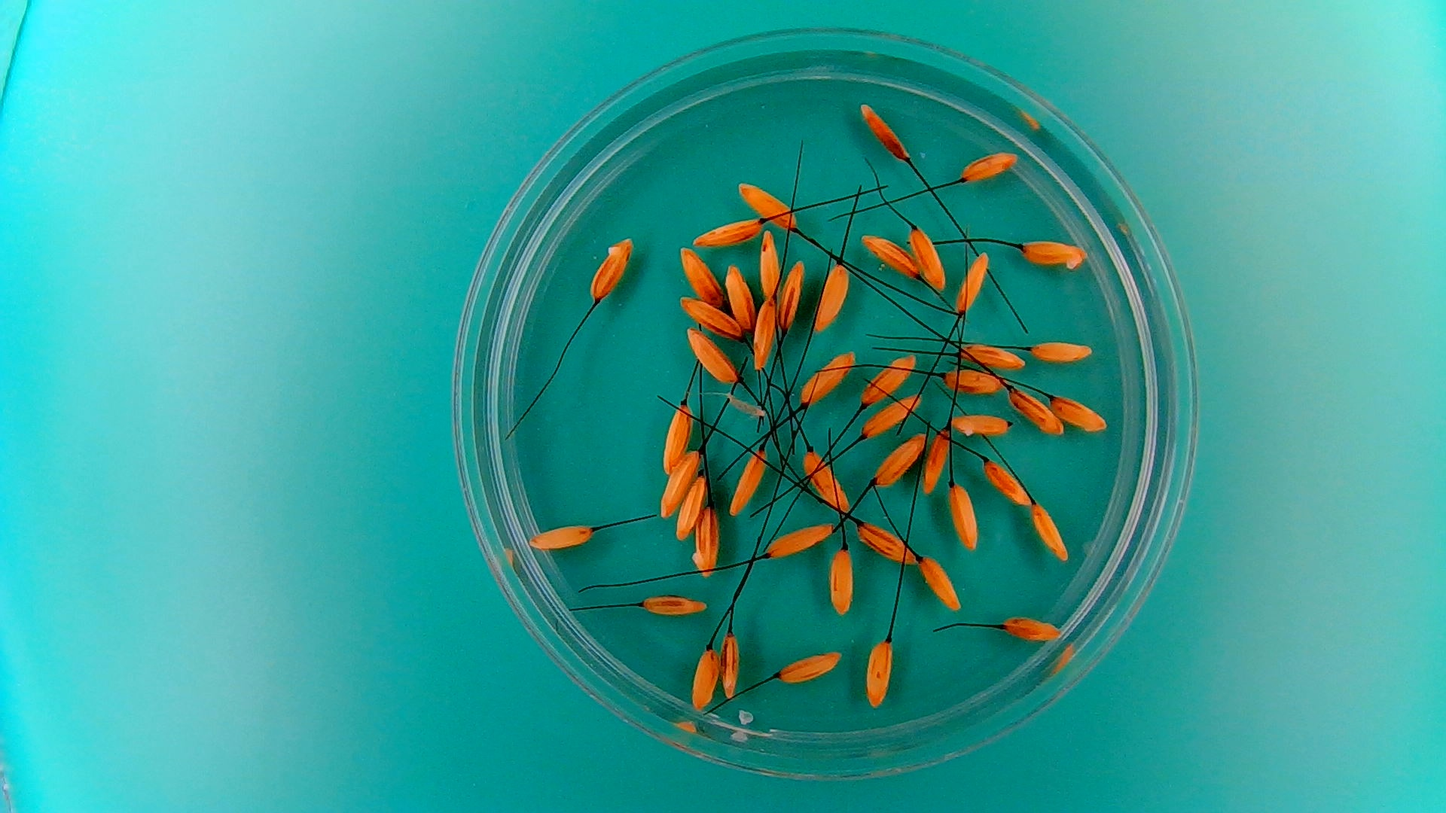no: (856, 99, 911, 162), (799, 446, 848, 516), (586, 234, 635, 304), (684, 324, 740, 385), (676, 293, 746, 340), (657, 448, 703, 519), (871, 431, 927, 489), (850, 517, 917, 565), (676, 243, 725, 308), (859, 393, 924, 440), (727, 445, 770, 516), (1006, 385, 1064, 437), (763, 519, 838, 559), (1017, 234, 1090, 275), (858, 232, 920, 280), (906, 223, 947, 294), (859, 357, 919, 405), (813, 260, 852, 333), (775, 646, 846, 686), (659, 400, 696, 475), (917, 553, 962, 614), (1048, 391, 1109, 435), (1029, 500, 1070, 565), (981, 456, 1032, 507), (673, 470, 709, 542), (525, 519, 597, 555), (690, 214, 764, 249), (688, 501, 721, 578), (723, 260, 757, 332), (862, 636, 895, 709), (734, 178, 794, 218), (801, 361, 854, 406), (947, 480, 981, 550), (776, 258, 807, 333), (959, 340, 1029, 373), (958, 148, 1020, 185), (688, 643, 721, 712), (637, 589, 709, 620), (998, 611, 1065, 644), (956, 248, 990, 313), (826, 546, 856, 619), (749, 294, 777, 371), (921, 428, 950, 495), (1027, 337, 1097, 364), (718, 627, 743, 700), (756, 226, 781, 299), (937, 367, 1003, 394), (950, 410, 1013, 438), (818, 349, 859, 373)
